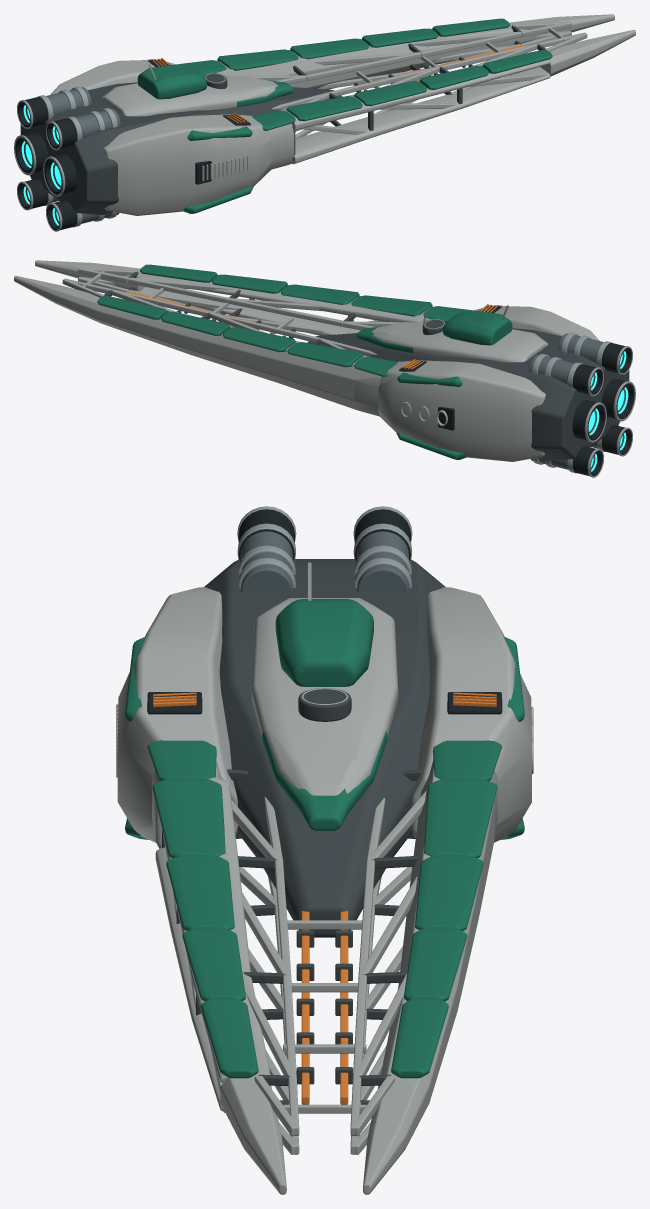
File: shu-interceptor.glb
The picture shows the model from 3 angles, top to bottom: view 1: azimuth 30°, elevation 25°; view 2: azimuth 150°, elevation 25°; view 3: azimuth 270°, elevation 25°; orthographic projection. The views are drawn at different scales.
Parts seen in each view (by area): view 1: Squared drive shoulder, Rear power block, Armored port fork, Exposed starboard fork edge, Tapered raised silver command deck, Raised bridge, Exposed starboard fork edge.001, Squared drive shoulder.001, Starboard silver dagger tip, Segmented blade armor.001, Segmented blade armor.006, Segmented blade armor.002 (+30 smaller); view 2: Squared drive shoulder.001, Armored port fork, Rear power block, Tapered raised silver command deck, Exposed starboard fork edge.001, Raised bridge, Squared drive shoulder, Exposed starboard fork edge, Segmented blade armor.006, Starboard silver dagger tip, Segmented blade armor.001, Segmented blade armor.007 (+26 smaller); view 3: Rear power block, Squared drive shoulder.001, Tapered raised silver command deck, Squared drive shoulder, Armored port fork, Raised bridge, Segmented blade armor.006, Segmented blade armor.001, Starboard silver dagger tip, Segmented blade armor.002, Segmented blade armor.007, Segmented blade armor.008 (+21 smaller).
Part boxes in pixels (<box>): Squared drive shoulder: <box>104,114,271,215</box>; Rear power block: <box>20,82,342,215</box>; Armored port fork: <box>216,14,614,89</box>; Exposed starboard fork edge: <box>291,67,550,164</box>; Tapered raised silver command deck: <box>102,76,277,116</box>; Raised bridge: <box>137,64,206,99</box>; Exposed starboard fork edge.001: <box>279,59,550,130</box>; Squared drive shoulder.001: <box>50,60,176,94</box>; Starboard silver dagger tip: <box>540,29,635,76</box>; Segmented blade armor.001: <box>286,96,362,121</box>; Segmented blade armor.006: <box>217,49,298,70</box>; Segmented blade armor.002: <box>354,81,426,106</box>; Squared drive shoulder.001: <box>378,360,545,461</box>; Armored port fork: <box>14,275,381,416</box>; Rear power block: <box>307,328,629,461</box>; Tapered raised silver command deck: <box>372,322,547,362</box>; Exposed starboard fork edge.001: <box>139,274,430,322</box>; Raised bridge: <box>443,310,512,345</box>; Squared drive shoulder: <box>473,306,599,340</box>; Exposed starboard fork edge: <box>140,287,360,335</box>; Segmented blade armor.006: <box>287,342,363,367</box>; Starboard silver dagger tip: <box>35,260,145,291</box>; Segmented blade armor.001: <box>351,295,432,316</box>; Segmented blade armor.007: <box>223,327,295,352</box>; Rear power block: <box>204,559,445,937</box>; Squared drive shoulder.001: <box>412,587,531,842</box>; Tapered raised silver command deck: <box>251,598,398,795</box>; Squared drive shoulder: <box>117,587,237,842</box>; Armored port fork: <box>363,761,497,1194</box>; Raised bridge: <box>275,599,373,686</box>; Segmented blade armor.006: <box>424,778,497,858</box>; Segmented blade armor.001: <box>152,778,225,857</box>; Starboard silver dagger tip: <box>220,1076,286,1194</box>; Segmented blade armor.002: <box>166,855,234,930</box>; Segmented blade armor.007: <box>415,855,483,930</box>; Segmented blade armor.008: <box>404,927,467,1001</box>.
Size of the model in its own units: 480 by 103 by 148.
